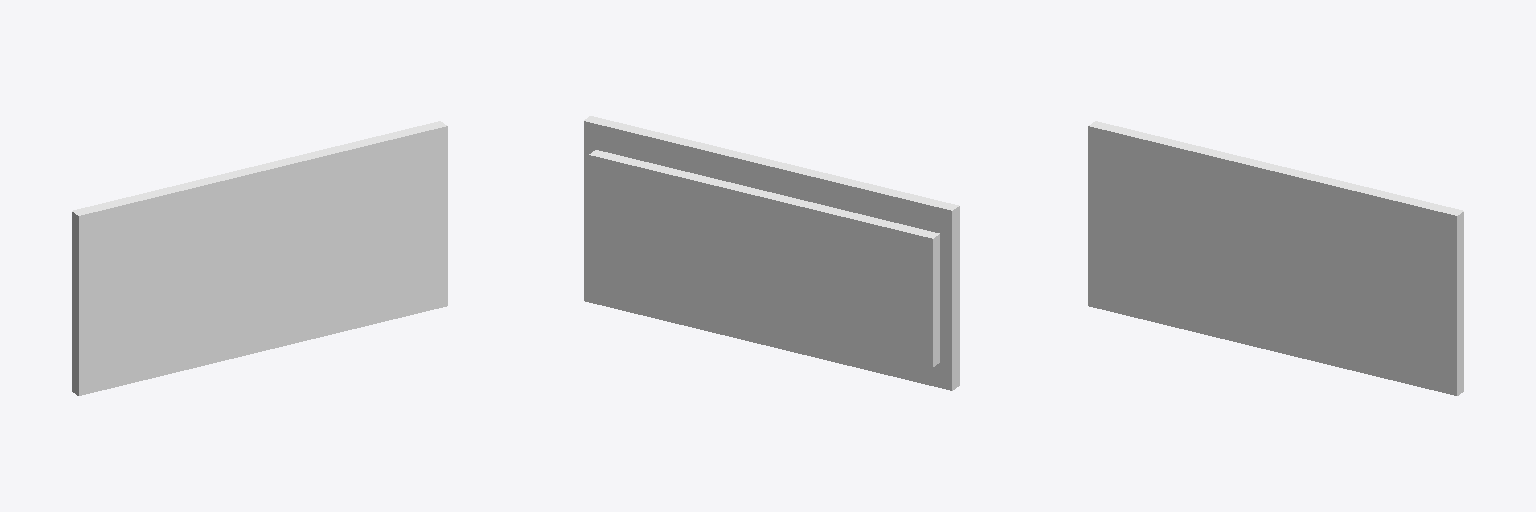
The model's file is ItaliaMagnet.obj.
The picture shows the model from 3 angles: view 1: azimuth 30°, elevation 25°; view 2: azimuth 150°, elevation 25°; view 3: azimuth 330°, elevation 25°; orthographic projection.
Visible parts, largest first — view 1: object 1; view 2: object 1; view 3: object 1.
Boxes of the visible parts, x1=… form: object 1: x1=72, y1=121, x2=447, y2=395; object 1: x1=584, y1=116, x2=959, y2=390; object 1: x1=1088, y1=121, x2=1463, y2=395.
Bounding box in the file's own units: 3 × 1.4 × 0.2.